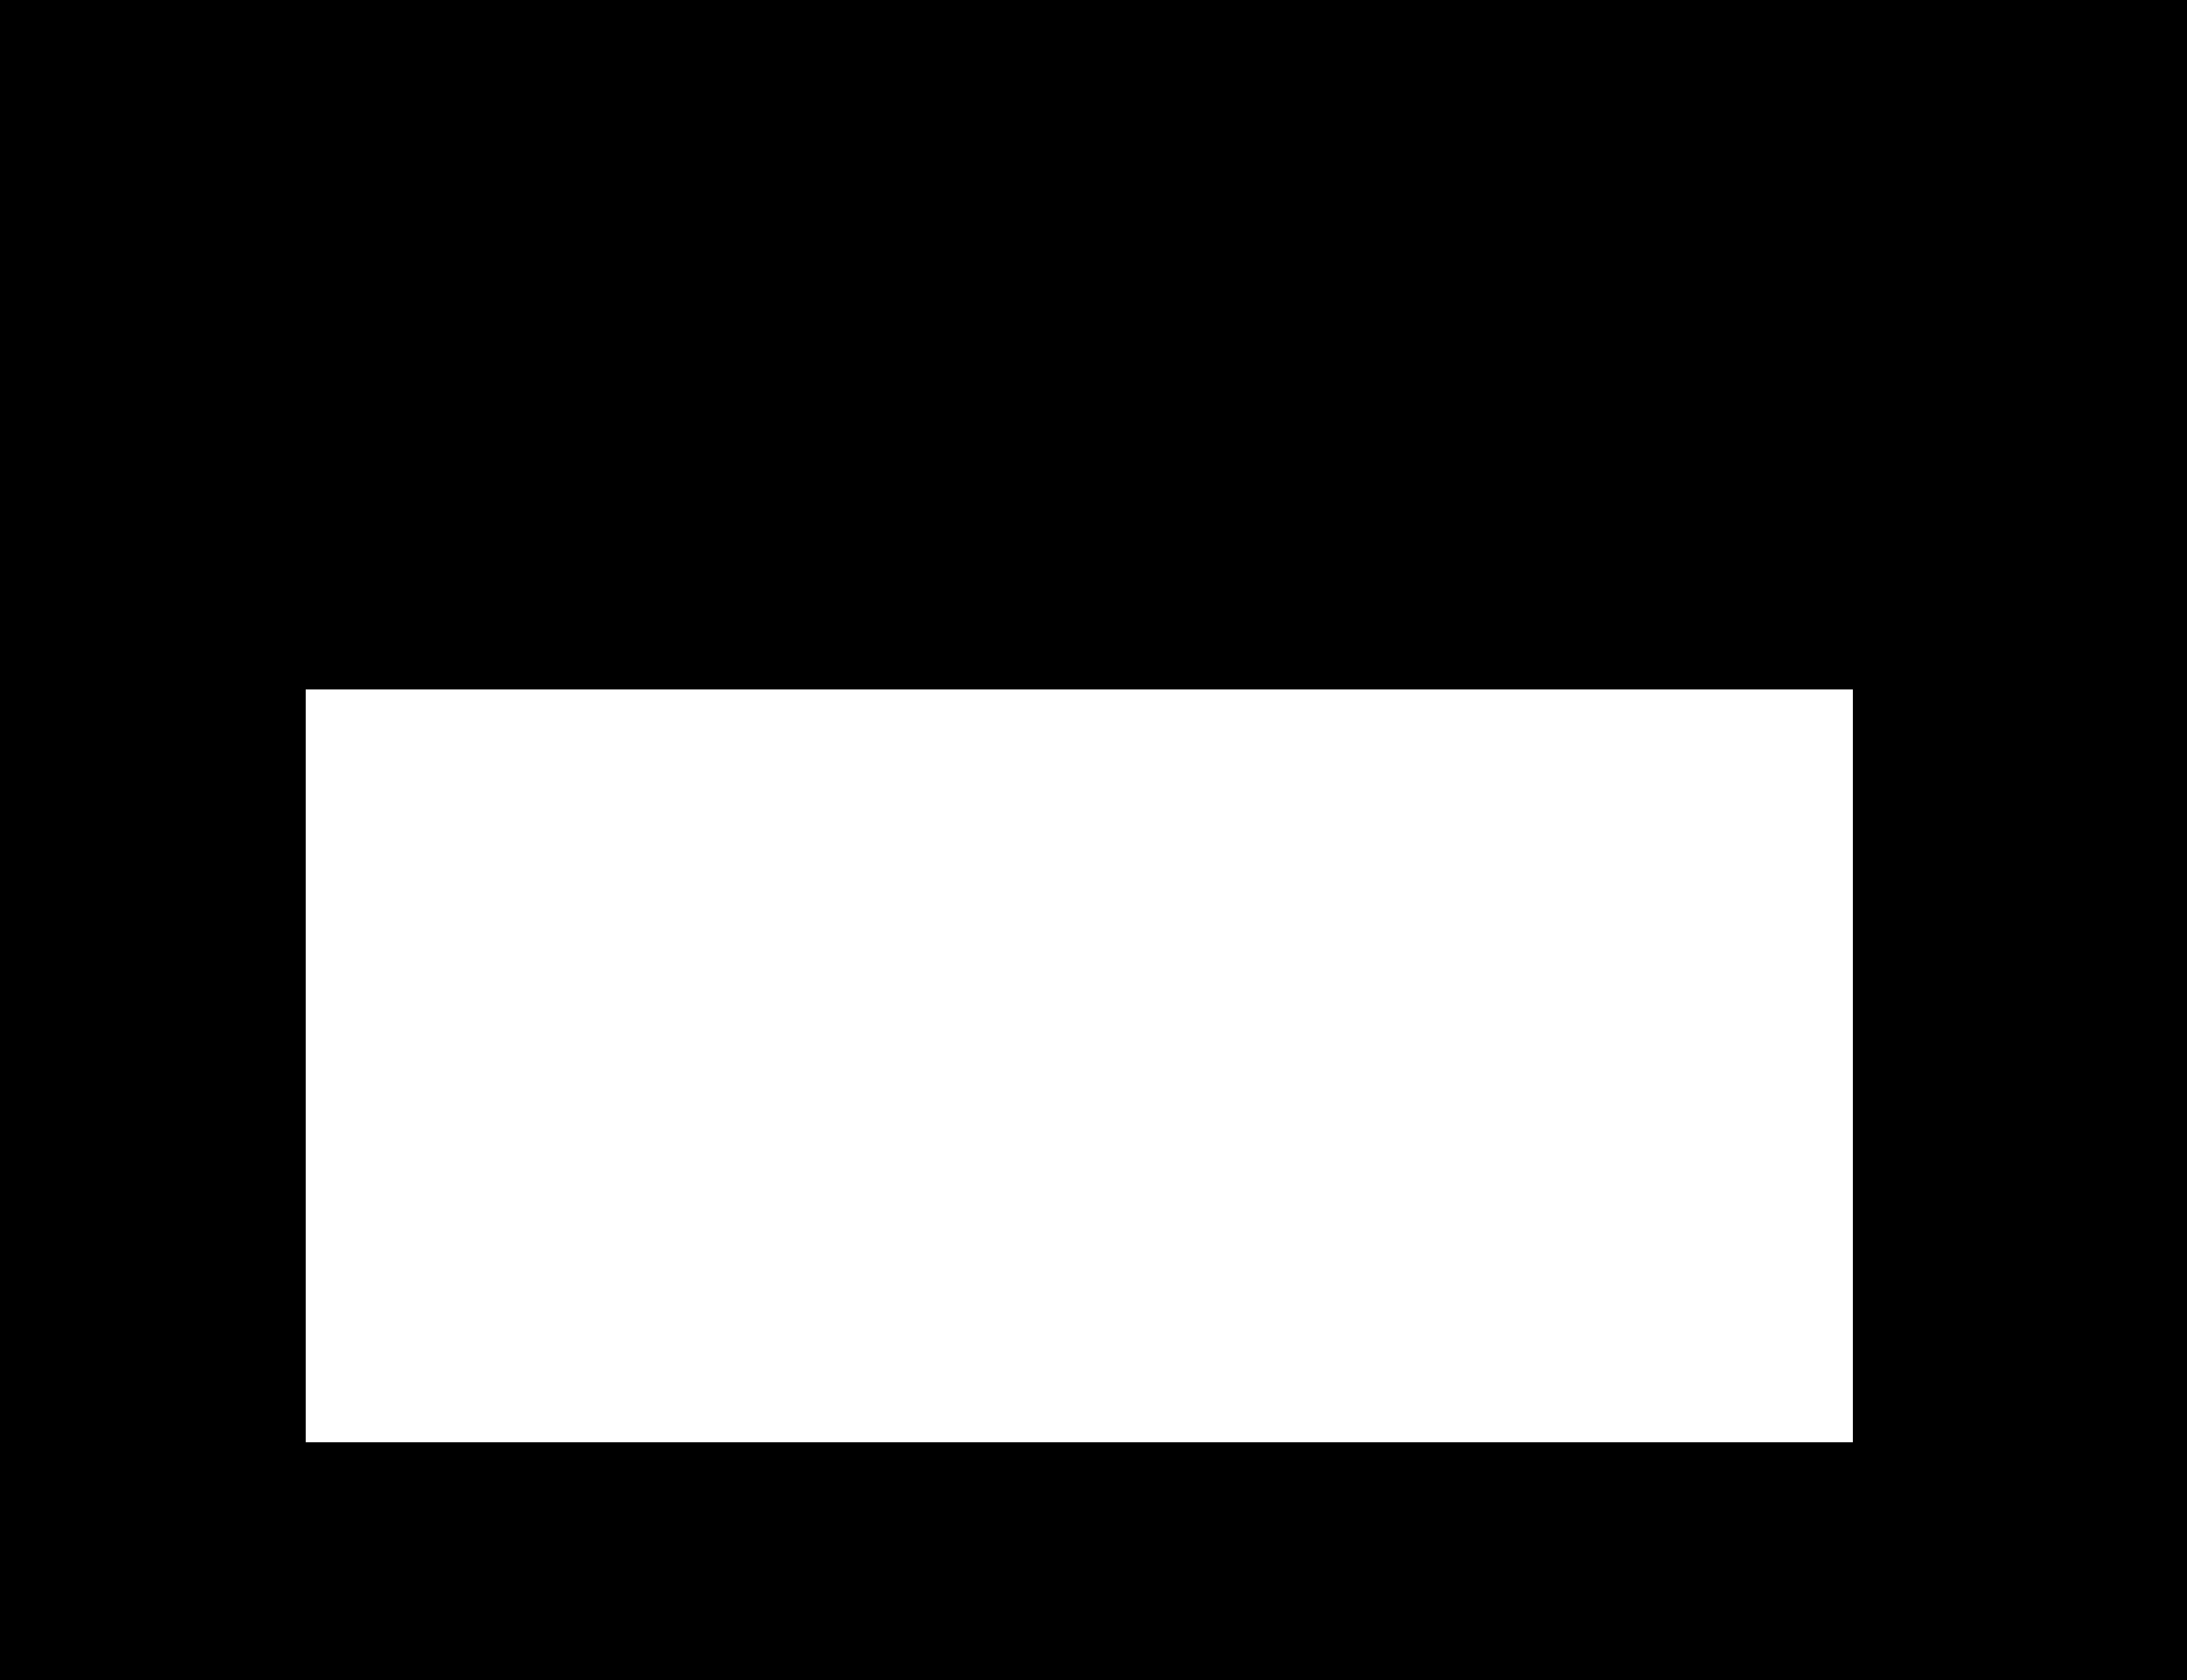table: (305, 690, 1852, 1442)
